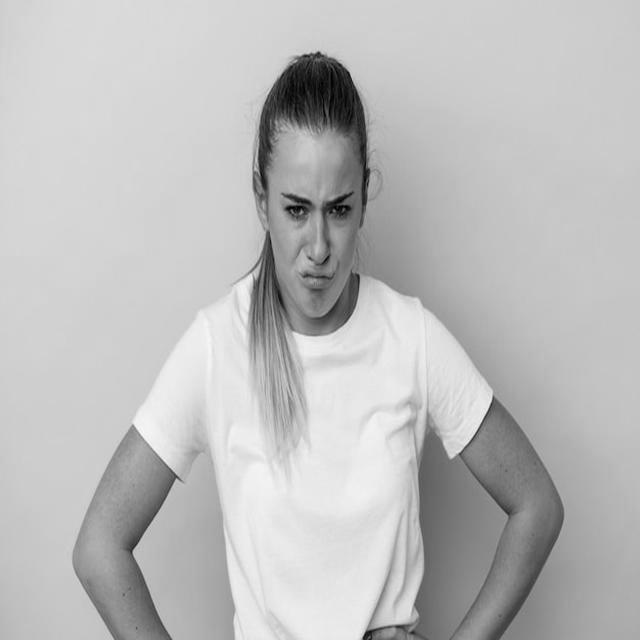Angry: (268, 133, 363, 319)
